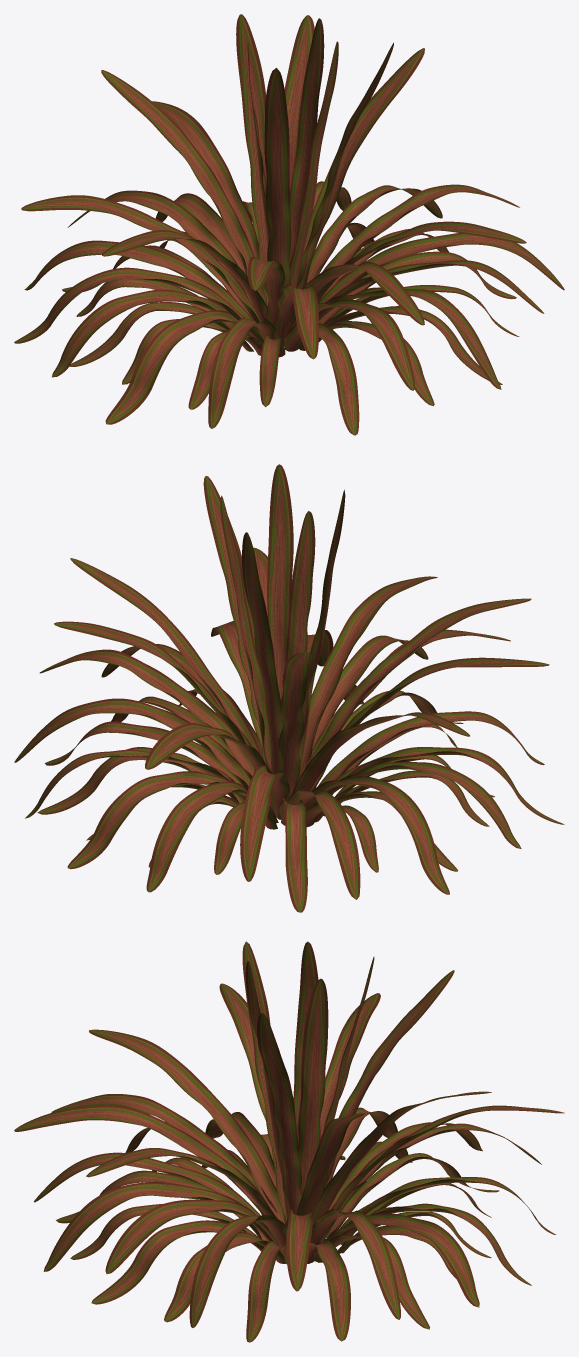
Rendered from flower.gltf.
3 views of the same model, one above another, from view 1: azimuth 30°, elevation 25°; view 2: azimuth 150°, elevation 25°; view 3: azimuth 270°, elevation 25° (orthographic). The views are drawn at different scales.
Parts seen in each view (by area): view 1: Phormium_tenax_A003; view 2: Phormium_tenax_A003; view 3: Phormium_tenax_A003.
Boxes of the visible parts, x1,y1,x2,y2 form: Phormium_tenax_A003: (14, 14, 564, 435); Phormium_tenax_A003: (14, 464, 564, 912); Phormium_tenax_A003: (14, 941, 564, 1342).
Size of the model in its own units: 11.66 by 7.35 by 12.1.
1 material, 1 textured.
